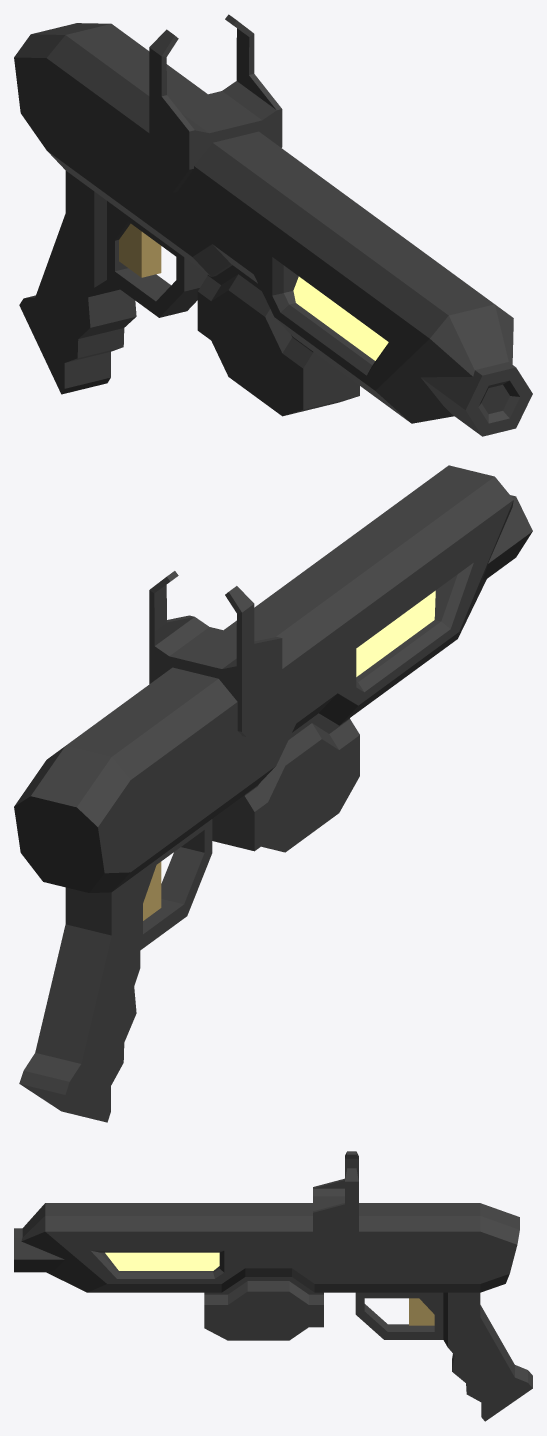
The model's file is FunGun.fbx.
3 views of the same model, one above another, from view 1: azimuth 30°, elevation 25°; view 2: azimuth 150°, elevation 25°; view 3: azimuth 270°, elevation 25° (orthographic). The views are drawn at different scales.
Visible parts, largest first — view 1: FunGun; view 2: FunGun; view 3: FunGun.
Part boxes in pixels (<box>): FunGun: <box>14,14,532,436</box>; FunGun: <box>14,465,532,1122</box>; FunGun: <box>14,1151,532,1421</box>.
Size of the model in its own units: 51.2 by 237 by 437.
